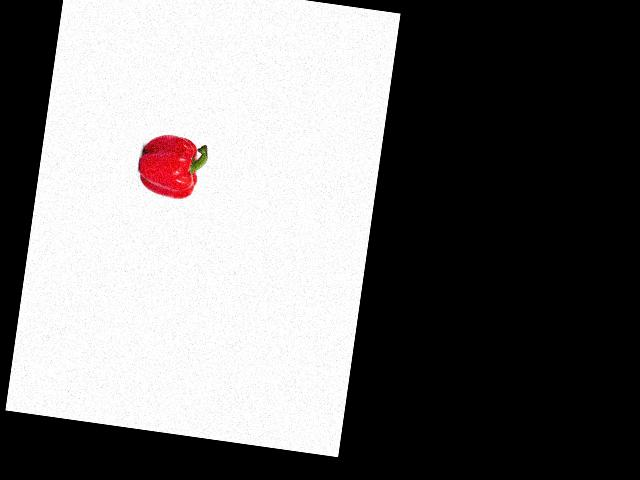bell_pepper: (134, 129, 211, 206)
